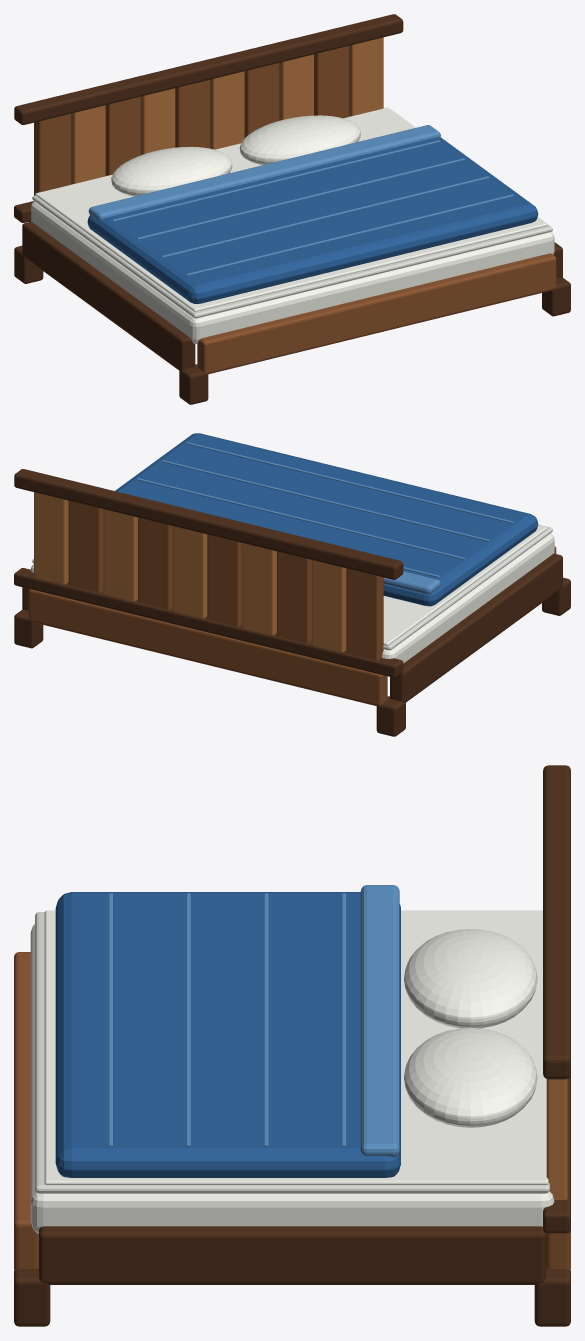
File: WoodenDoubleBed.glb
3 views of the same model, one above another, from view 1: azimuth 30°, elevation 25°; view 2: azimuth 150°, elevation 25°; view 3: azimuth 270°, elevation 25° (orthographic). The views are drawn at different scales.
Parts seen in each view (by area): view 1: BlueDuvet, FootRail, Mattress, HeadboardFrameTop, SheetTop, SideRailLeft, DuvetFold, Pillow02, Pillow01, FittedSheet, HeadboardSlat01, HeadboardSlat10 (+15 smaller); view 2: BlueDuvet, HeadRail, HeadboardFrameTop, SideRailLeft, HeadboardFrameBottom, Mattress, HeadboardSlat01, HeadboardSlat02, HeadboardSlat09, HeadboardSlat05, HeadboardSlat06, HeadboardSlat08 (+13 smaller); view 3: BlueDuvet, SideRailRight, SheetTop, Mattress, DuvetFold, Pillow02, Pillow01, HeadboardFrameTop, FittedSheet, FootRail, HeadboardSlat10, LegRightFoot (+7 smaller).
Boxes of the visible parts, box(x1,y1,x2,y2) form: BlueDuvet: box(87, 137, 538, 303); FootRail: box(197, 253, 556, 374); Mattress: box(30, 201, 554, 343); HeadboardFrameTop: box(14, 14, 403, 124); SheetTop: box(35, 107, 546, 311); SideRailLeft: box(22, 221, 195, 370); DuvetFold: box(88, 125, 440, 220); Pillow02: box(239, 115, 360, 165); Pillow01: box(111, 146, 232, 196); FittedSheet: box(32, 109, 552, 318); HeadboardSlat01: box(34, 113, 70, 201); HeadboardSlat10: box(349, 37, 383, 116); BlueDuvet: box(115, 433, 538, 606); HeadRail: box(28, 589, 387, 706); HeadboardFrameTop: box(14, 469, 403, 579); SideRailLeft: box(390, 553, 562, 702); HeadboardFrameBottom: box(14, 568, 403, 677); Mattress: box(30, 533, 554, 663); HeadboardSlat01: box(346, 568, 383, 660); HeadboardSlat02: box(311, 560, 346, 651); HeadboardSlat09: box(68, 501, 103, 592); HeadboardSlat05: box(207, 534, 242, 626); HeadboardSlat06: box(172, 526, 207, 618); HeadboardSlat08: box(103, 509, 137, 601); BlueDuvet: box(55, 892, 400, 1177); SideRailRight: box(39, 1226, 545, 1284); SheetTop: box(44, 910, 548, 1184); Mattress: box(30, 924, 554, 1233); DuvetFold: box(360, 885, 399, 1157); Pillow02: box(404, 1027, 537, 1127); Pillow01: box(404, 929, 537, 1028); HeadboardFrameTop: box(543, 765, 570, 1079); FittedSheet: box(35, 912, 549, 1193); FootRail: box(14, 952, 38, 1269); HeadboardSlat10: box(546, 1079, 567, 1199); LegRightFoot: box(14, 1267, 50, 1326).
Size of the model in its own units: 5 by 2.14 by 4.
